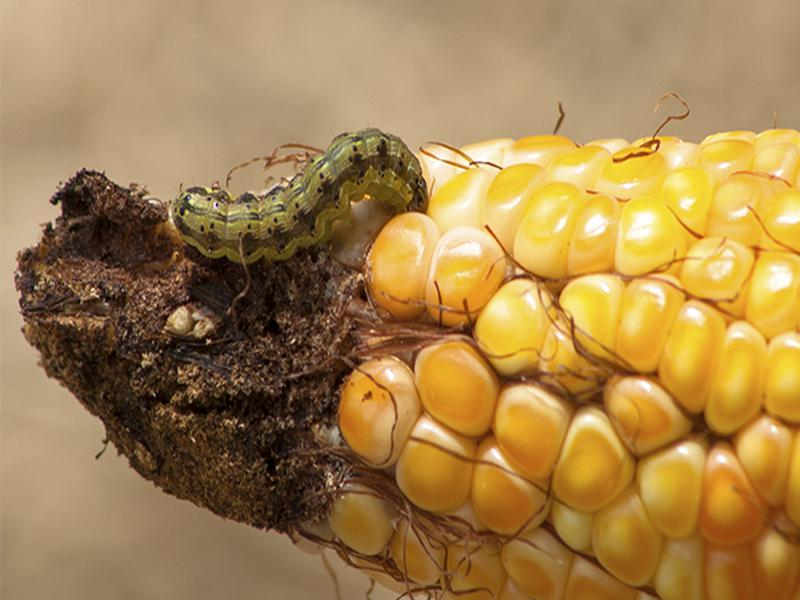Rice_horned_caterpillar: (144, 126, 447, 294)
